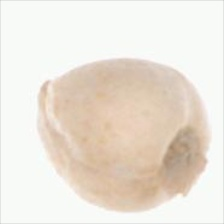L3: (34, 77, 57, 127)
L4: (34, 59, 211, 213)
